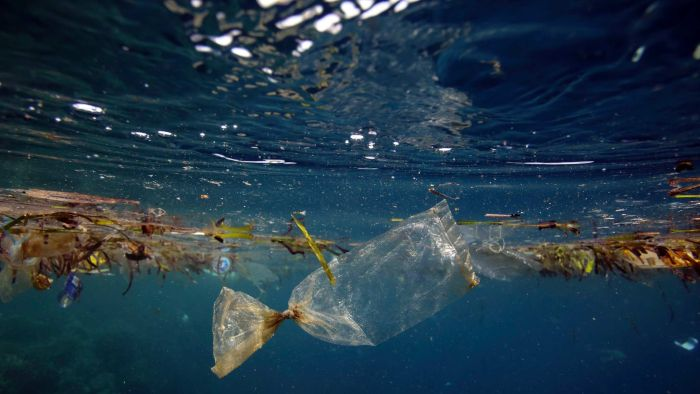litter: (172, 207, 499, 371), (54, 260, 92, 314), (199, 251, 235, 277)
